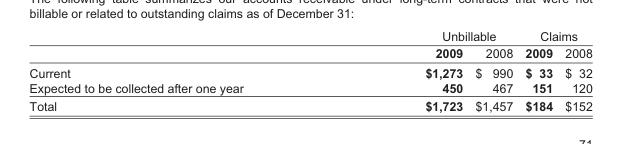table: (28, 28, 591, 113)
table column: (28, 28, 333, 113), (333, 28, 468, 113), (468, 28, 518, 113), (518, 28, 558, 113), (558, 28, 591, 113)
table column header: (28, 28, 591, 62)
table row: (28, 44, 591, 62), (28, 62, 591, 80), (28, 96, 591, 113), (28, 28, 591, 44), (28, 80, 591, 96)
table spanning cell: (333, 28, 518, 44), (518, 28, 591, 44)
